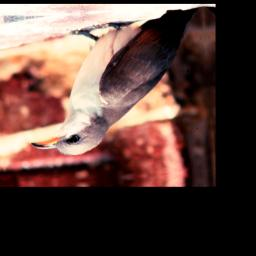Cuckoo: (21, 6, 209, 159)
